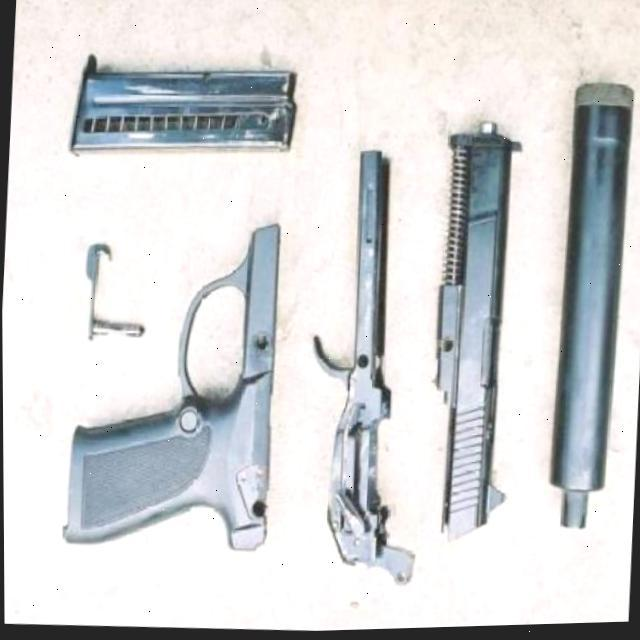gun: (56, 138, 392, 560)
